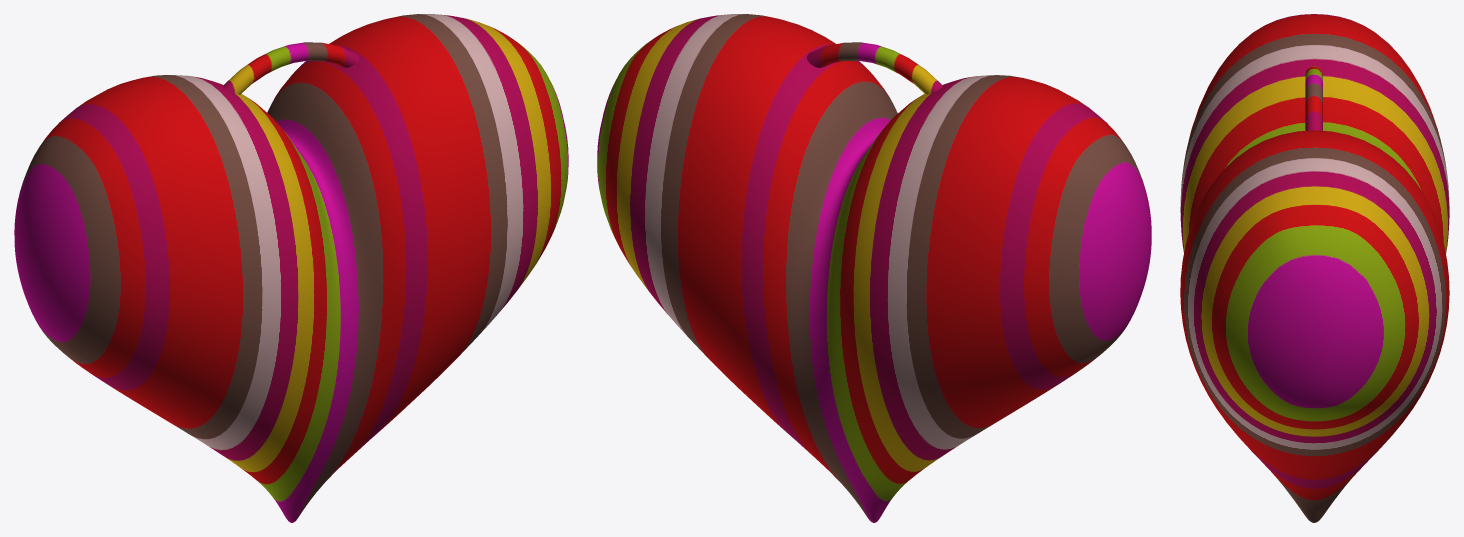
File: B-9_Onstick.fbx
The picture shows the model from 3 angles, left to right: view 1: azimuth 30°, elevation 25°; view 2: azimuth 150°, elevation 25°; view 3: azimuth 270°, elevation 25°; orthographic projection. The views are drawn at different scales.
Parts seen in each view (by area): view 1: B-9; view 2: B-9; view 3: B-9.
Part boxes in pixels (x1,y1,x2,y2): B-9: (14,14,568,522); B-9: (597,14,1151,522); B-9: (1180,14,1449,522).
Size of the model in its own units: 124 by 59.18 by 108.
